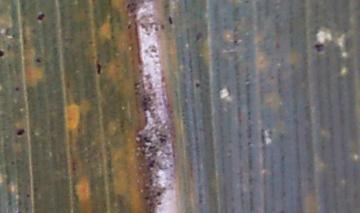tarspot: (315, 43, 324, 53), (167, 14, 174, 26), (16, 128, 25, 137), (96, 62, 102, 75), (195, 31, 202, 41), (71, 160, 77, 170), (35, 57, 42, 64), (38, 13, 44, 20), (195, 81, 201, 88), (1, 50, 6, 58), (156, 191, 162, 197), (144, 194, 150, 200), (10, 159, 15, 166), (160, 23, 165, 30), (15, 86, 20, 92), (25, 193, 31, 198), (233, 39, 238, 45)
